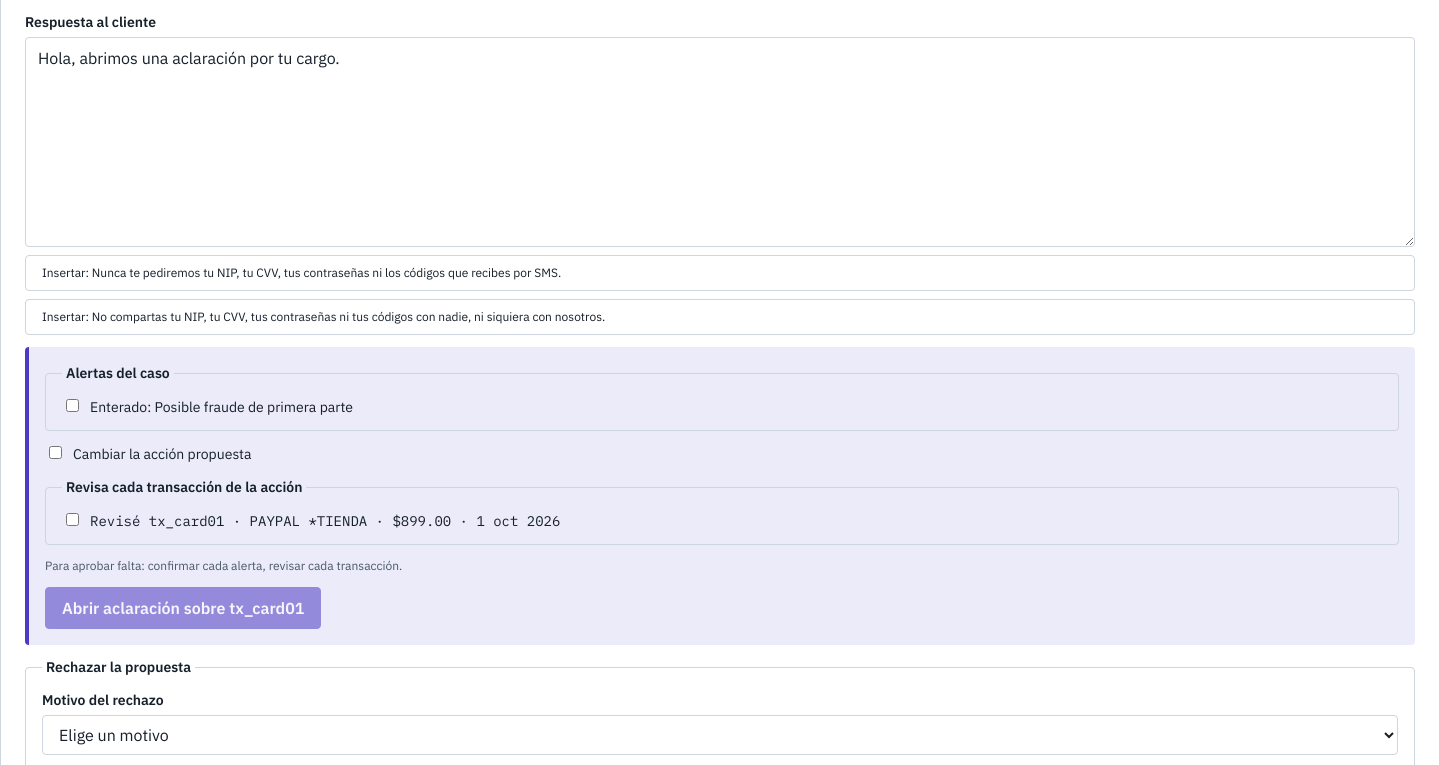
Test case: decision panel (02 G3) › offers for each action only the transactions it allows, and at least its minimum
The image size is (1440, 765).
(page scrolled)
Expected: the button "Abrir aclaración sobre tx_card01" is shown, [45,587,321,629]
Click the checkbox labelled "Enterado: Posible fraude de primera parte" at (72, 406), box [66,399,79,412]
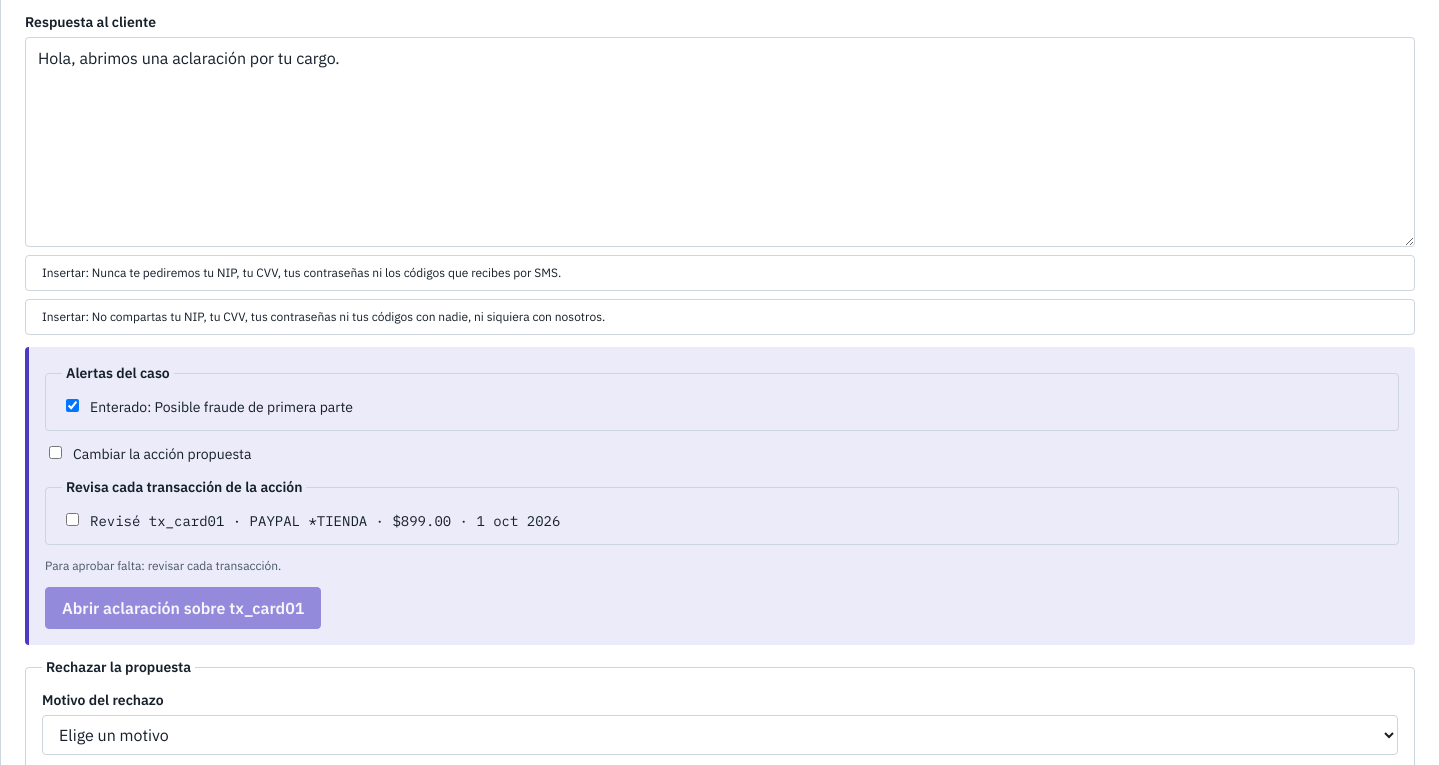
Click the checkbox labelled "Cambiar la acción propuesta" at (56, 452), box [49,446,62,459]
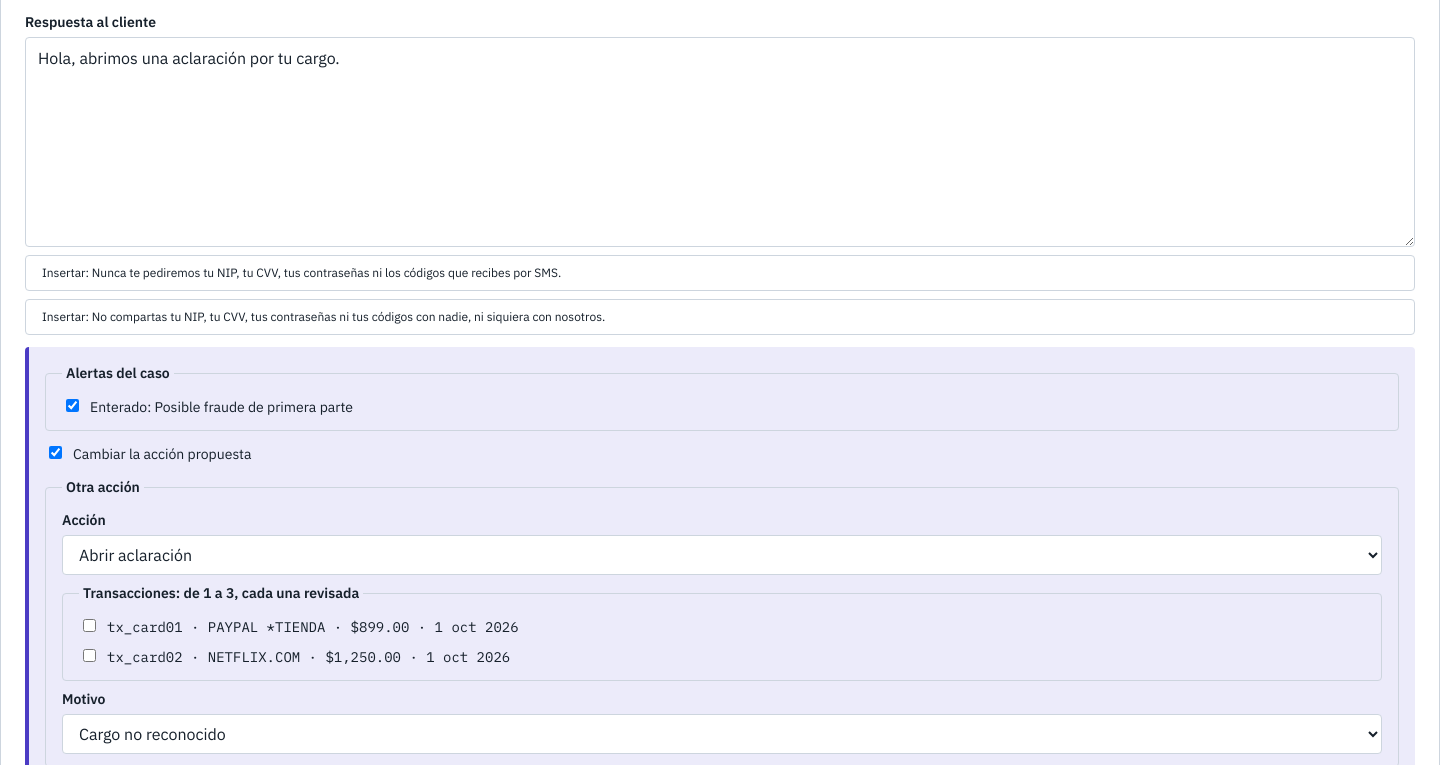
Select "Reenviar comprobante (CEP)" in the dropdown labelled "Acción" at (722, 555), box [62,535,1382,575]
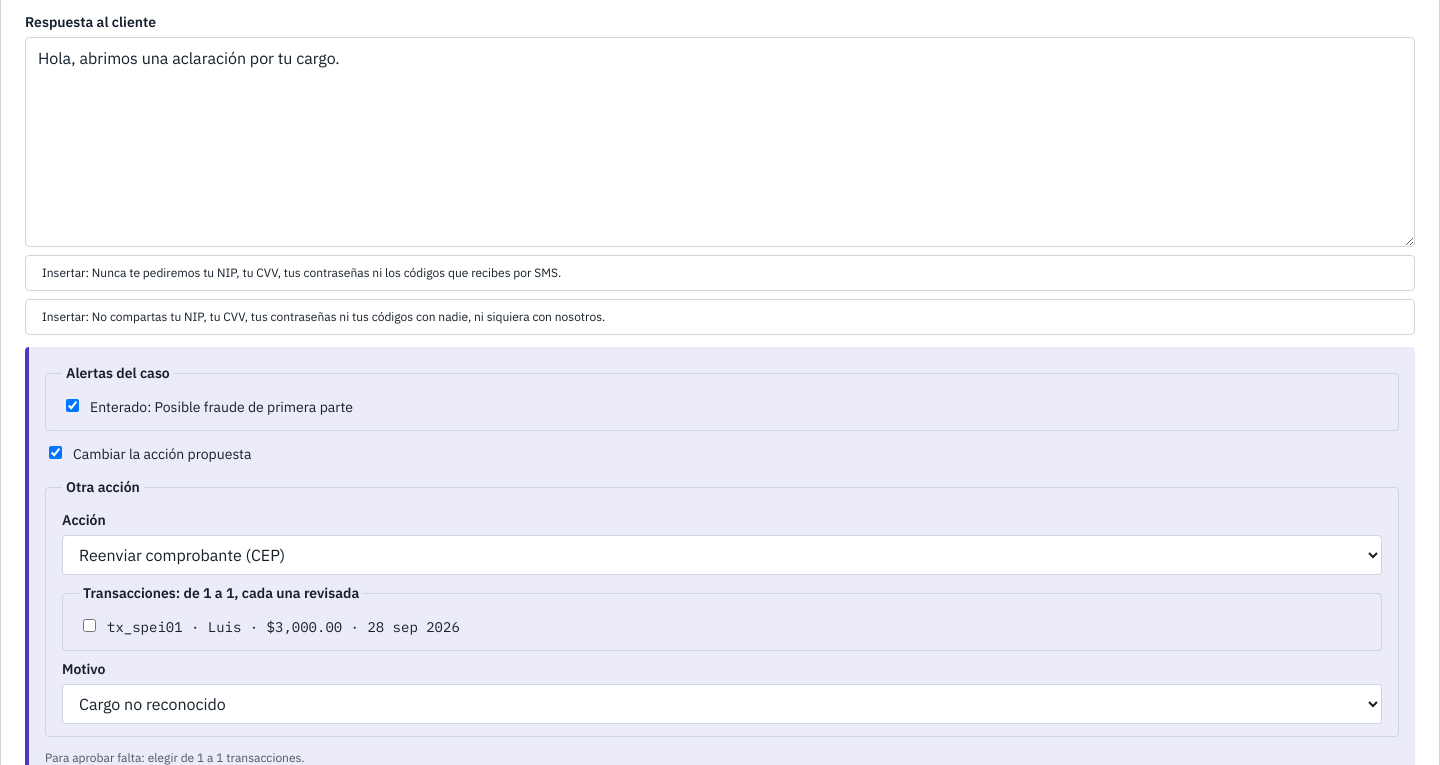
Expected: the checkbox labelled "tx_spei01 · Luis · $3,000.00 · 28 sep 2026" is shown, [83,619,96,632]
Result: the label "tx_card01" is gone
Select "Abrir aclaración" in the dropdown labelled "Acción" at (722, 555), box [62,535,1382,575]
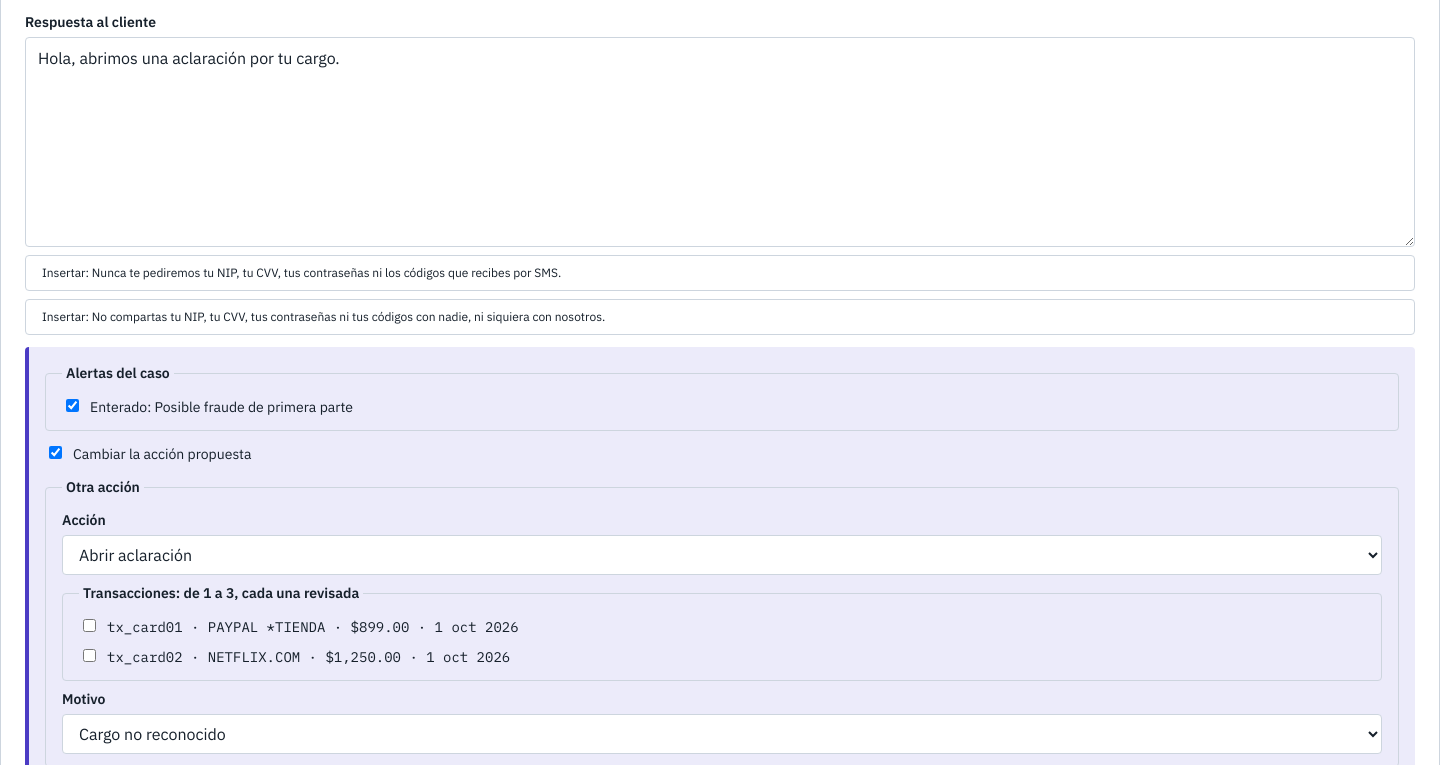
Result: the label "tx_spei01" is gone
Click the checkbox labelled "tx_card02 · NETFLIX.COM · $1,250.00 · 1 oct 2026" at (90, 656), box [83,649,96,662]
(page scrolled)
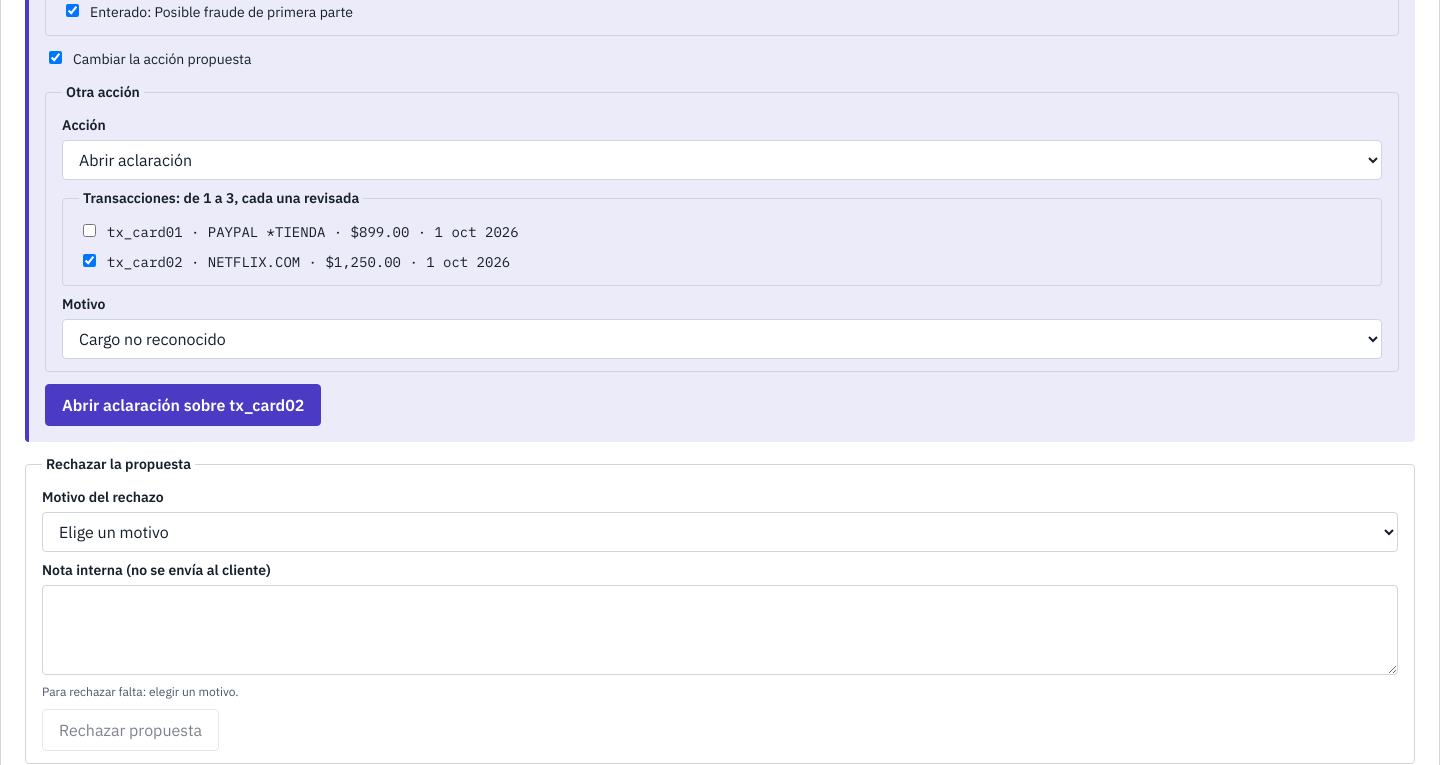
Result: the button "Abrir aclaración sobre tx_card02" is enabled at [45,384,321,426]
